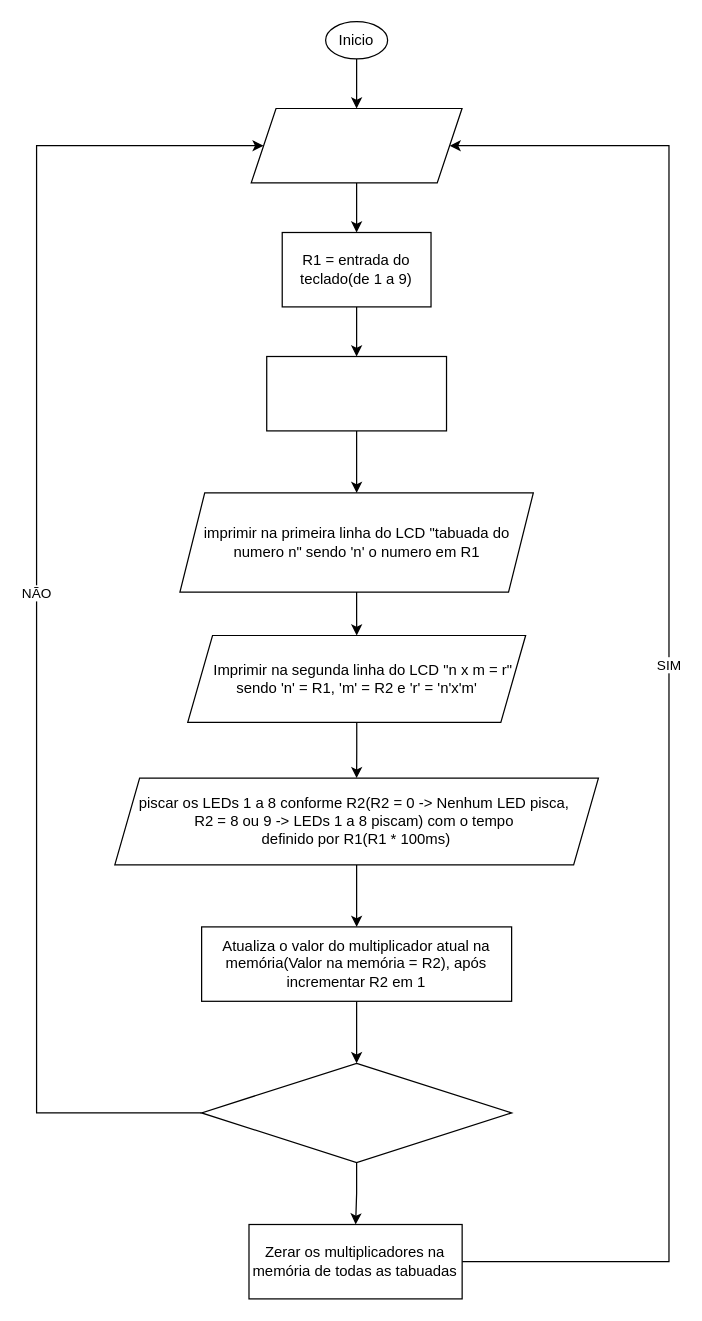
The diagram is 702 pixels wide and 1321 high, and some of its shapes have lost their labels. The centre of each missing label's shape, as x and y in pixels:
"Capta entrada do teclado matricial" belongs at (x=356, y=145).
"R2 = multiplicador, salvo na memória, referente a tabuada apontada por R1" belongs at (x=356, y=393).
"USR_SW1 pressionado?" belongs at (x=356, y=1112).
